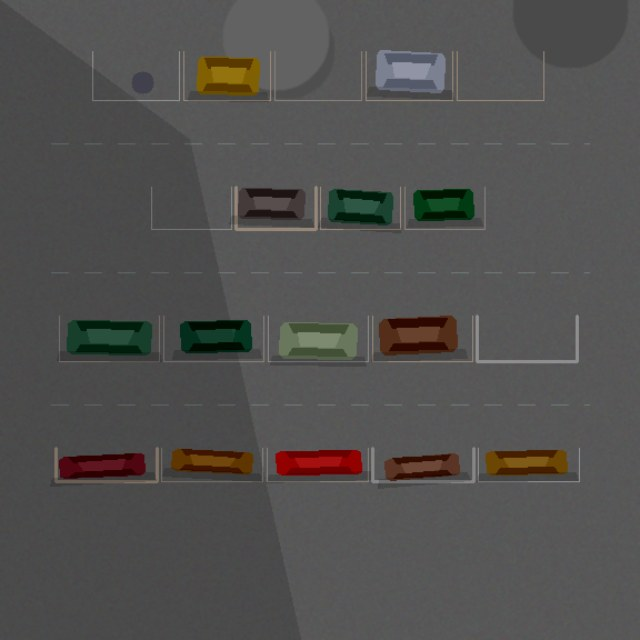space-empty: (477, 316, 577, 361), (92, 51, 179, 100), (274, 51, 361, 100), (457, 51, 543, 100), (151, 187, 231, 229)
space-occupied: (59, 316, 159, 361), (163, 316, 263, 361), (268, 316, 368, 361), (372, 316, 472, 361), (183, 51, 270, 100), (366, 51, 452, 100), (236, 187, 316, 229), (320, 187, 400, 229), (404, 187, 484, 229), (56, 448, 157, 481), (161, 448, 262, 481), (267, 448, 368, 481), (372, 448, 473, 481), (478, 448, 579, 481)
